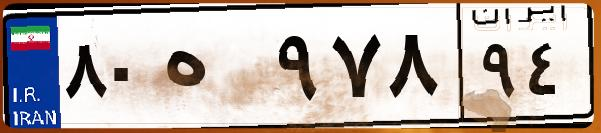0: (110, 28, 158, 98)
4: (525, 38, 570, 115)
7: (330, 28, 385, 110)
8: (385, 28, 445, 110), (57, 26, 110, 100)
9: (270, 28, 330, 110), (475, 38, 525, 113)
ه: (158, 20, 270, 120)
